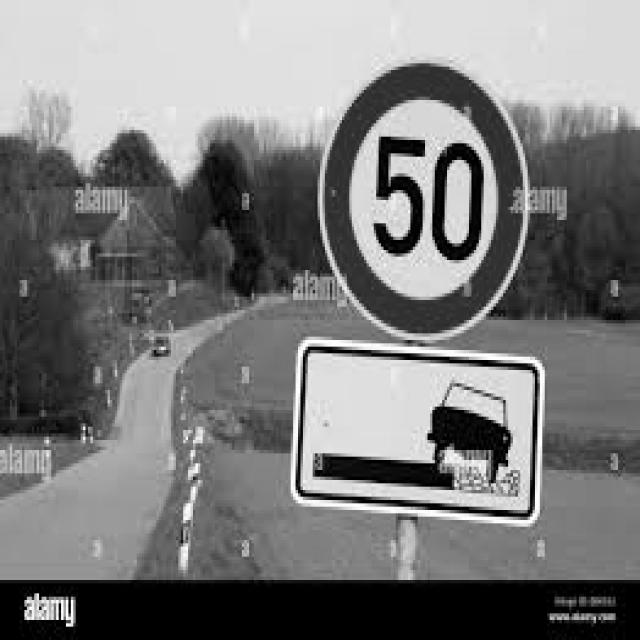speed_50: (316, 58, 531, 344)
